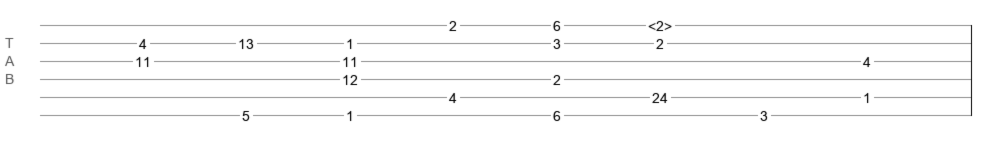1: (346, 108, 354, 118), (346, 36, 354, 46), (863, 90, 871, 100)
11: (135, 54, 151, 64), (342, 54, 358, 64)
12: (342, 72, 358, 82)
13: (238, 36, 254, 46)
2: (449, 18, 457, 28), (553, 72, 561, 82), (656, 36, 664, 46)
24: (652, 90, 668, 100)
3: (553, 36, 561, 46), (760, 108, 768, 118)
4: (139, 36, 147, 46), (449, 90, 457, 100), (863, 54, 871, 64)
5: (242, 108, 250, 118)
6: (553, 108, 561, 118), (553, 18, 561, 28)
harmonic: (648, 18, 672, 28)
